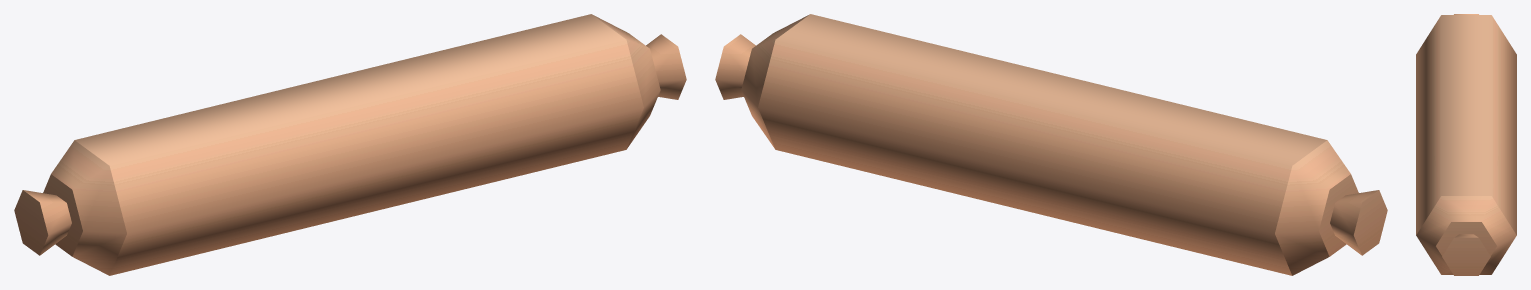
Rendered from hot-dog-raw.glb.
3 views of the same model, side by side, from view 1: azimuth 30°, elevation 25°; view 2: azimuth 150°, elevation 25°; view 3: azimuth 270°, elevation 25° (orthographic). The views are drawn at different scales.
Visible parts, largest first — view 1: hot-dog-raw; view 2: hot-dog-raw; view 3: hot-dog-raw.
Part boxes in pixels (x1,y1,x2,y2): hot-dog-raw: (14, 14, 686, 275); hot-dog-raw: (715, 14, 1387, 275); hot-dog-raw: (1416, 14, 1516, 275).
Bounding box in the file's own units: 0.5859 × 0.0966 × 0.1116.
Materials: 1 (1 with a texture image).
